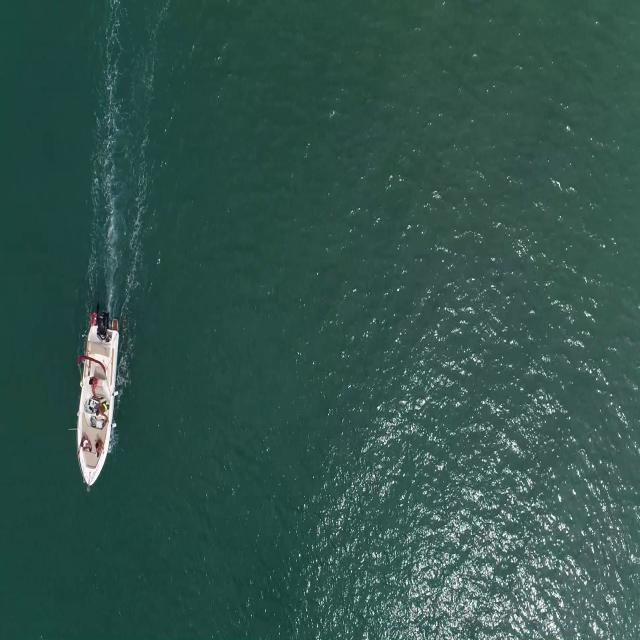boat: (76, 324, 119, 494)
life_buoy: (89, 312, 97, 326)
person: (94, 401, 110, 424), (78, 434, 92, 458), (88, 374, 98, 398), (95, 439, 104, 458)
